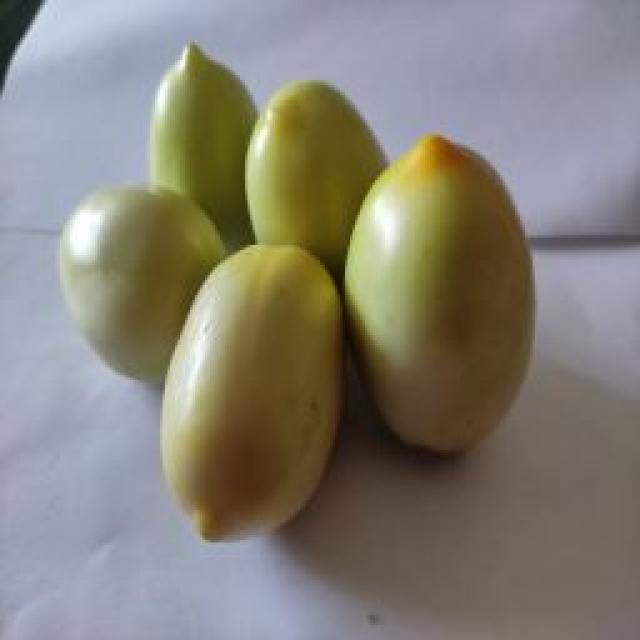tomato: (344, 136, 533, 452), (162, 236, 342, 548), (56, 186, 232, 386), (245, 78, 391, 299), (146, 40, 262, 254)
